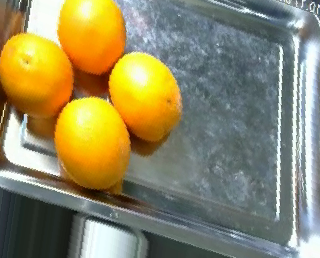Orange: (53, 96, 130, 189), (108, 50, 183, 141), (1, 33, 74, 119), (57, 1, 127, 75)
